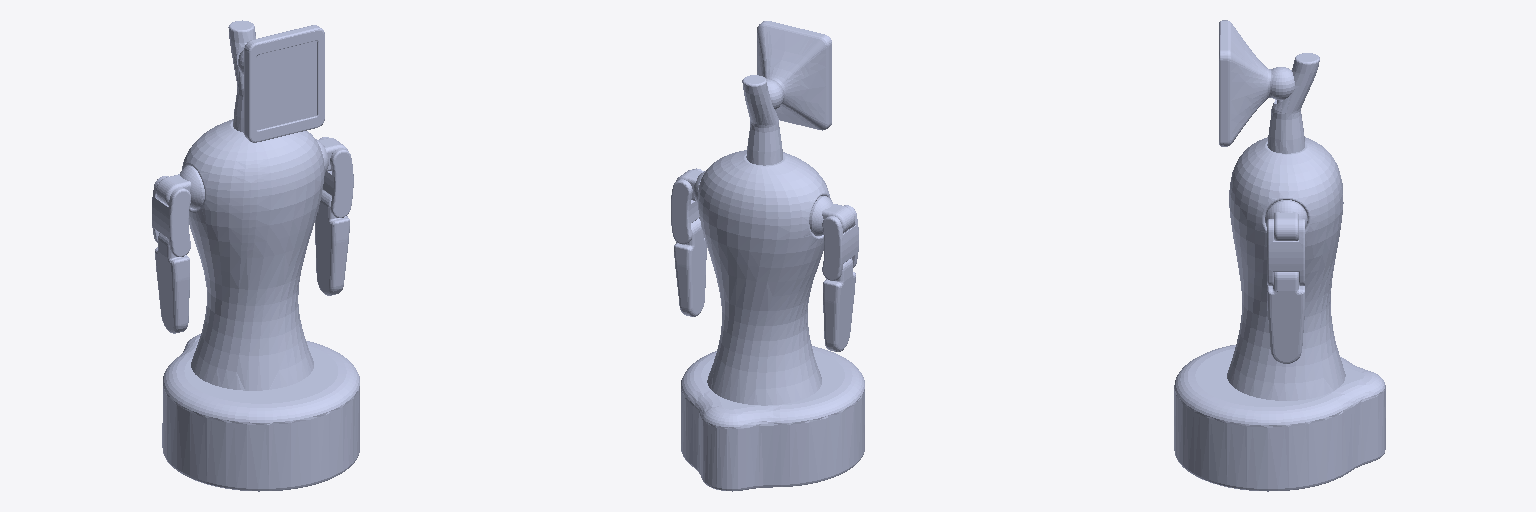
The robot description file, URDF, robot "URDF_Silbot":
<robot
  name="URDF_Silbot">

  <!-- Used for fixing robot to Gazebo 'base_link' -->
  <link name="world"/>
  <joint name="fixed" type="fixed">
    <parent link="world"/>
    <child link="base_link"/>
  </joint>
  <!-- -->

  <link
    name="base_link">
    <inertial>
      <origin
        xyz="7.58222085594279E-07 0.303246791234953 -0.0240203938745347"
        rpy="0 0 0" />
      <mass
        value="62.7691092370317" />
      <inertia
        ixx="4.50842846453512"
        ixy="-1.06126672936263E-05"
        ixz="-0.000498782139427751"
        iyy="1.12012861197416"
        iyz="0.214465641656845"
        izz="4.45203233376493" />
    </inertial>
    <visual>
      <origin
        xyz="0 0 0"
        rpy="0 0 0" />
      <geometry>
        <mesh
          filename="package://silbot3_description/meshes/base_link.stl" />
      </geometry>
      <material
        name="">
        <color
          rgba="0.792156862745098 0.819607843137255 0.933333333333333 1" />
      </material>
    </visual>
    <collision>
      <origin
        xyz="0 0 0"
        rpy="0 0 0" />
      <geometry>
        <mesh
          filename="package://silbot3_description/meshes/base_link.stl" />
      </geometry>
    </collision>
  </link>
  <link
    name="head_pan">
    <inertial>
      <origin
        xyz="-2.62345537484504E-18 0.0434442547963301 4.00317448634446E-09"
        rpy="0 0 0" />
      <mass
        value="0.0271784628013319" />
      <inertia
        ixx="1.80957544896381E-05"
        ixy="1.89945655284013E-21"
        ixz="-2.48736511134325E-11"
        iyy="1.43652425083494E-06"
        iyz="-1.55760485502358E-12"
        izz="1.80877283143939E-05" />
    </inertial>
    <visual>
      <origin
        xyz="0 0 0"
        rpy="0 0 0" />
      <geometry>
        <mesh
          filename="package://silbot3_description/meshes/head_pan.stl" />
      </geometry>
      <material
        name="">
        <color
          rgba="0.792156862745098 0.819607843137255 0.933333333333333 1" />
      </material>
    </visual>
    <collision>
      <origin
        xyz="0 0 0"
        rpy="0 0 0" />
      <geometry>
        <mesh
          filename="package://silbot3_description/meshes/head_pan.stl" />
      </geometry>
    </collision>
  </link>
  <joint
    name="head_pan"
    type="continuous">
    <origin
      xyz="0 0.0270000000000001 0.882000000000001"
      rpy="1.5707963267949 0 0" />
    <parent
      link="base_link" />
    <child
      link="head_pan" />
    <axis
      xyz="0 1 0" />
    <limit effort="30" velocity="1.57" lower="-1.13" upper="1.13" />
    <safety_controller k_velocity="1.57" k_position="15" soft_lower_limit="-1.13" soft_upper_limit="1.13" />
  </joint>
  <link
    name="head_tilt">
    <inertial>
      <origin
        xyz="3.35509416417473E-07 0.000180320997616445 0.098466219968126"
        rpy="0 0 0" />
      <mass
        value="3.1958001417964" />
      <inertia
        ixx="0.0161280224212103"
        ixy="-3.74548687820398E-07"
        ixz="4.10569883072921E-08"
        iyy="0.0120783645510828"
        iyz="6.02015212726225E-05"
        izz="0.0190874850995971" />
    </inertial>
    <visual>
      <origin
        xyz="0 0 0"
        rpy="0 0 0" />
      <geometry>
        <mesh
          filename="package://silbot3_description/meshes/head_tilt.stl" />
      </geometry>
      <material
        name="">
        <color
          rgba="0.792156862745098 0.819607843137255 0.933333333333333 1" />
      </material>
    </visual>
    <collision>
      <origin
        xyz="0 0 0"
        rpy="0 0 0" />
      <geometry>
        <mesh
          filename="package://silbot3_description/meshes/head_tilt.stl" />
      </geometry>
    </collision>
  </link>
  <joint
    name="head_tilt"
    type="continuous">
    <origin
      xyz="0 0.0800000000000001 0"
      rpy="0 0 0" />
    <parent
      link="head_pan" />
    <child
      link="head_tilt" />
    <axis
      xyz="-1 0 0" />
      <limit effort="30" velocity="1.57" lower="-0.17" upper="0.61" />
      <safety_controller k_velocity="1.57" k_position="15" soft_lower_limit="-0.17" soft_upper_limit="0.61" />
  </joint>
  <link
    name="left_shoulder_roll">
    <inertial>
      <origin
        xyz="0.0402238451768937 5.90727256000179E-09 -1.06105921389432E-07"
        rpy="0 0 0" />
      <mass
        value="0.523769709828829" />
      <inertia
        ixx="0.00050893924644715"
        ixy="1.22760205520854E-11"
        ixz="-3.81706313132774E-10"
        iyy="0.000694869826637859"
        iyz="8.25920040594555E-11"
        izz="0.000695111477814235" />
    </inertial>
    <visual>
      <origin
        xyz="0 0 0"
        rpy="0 0 0" />
      <geometry>
        <mesh
          filename="package://silbot3_description/meshes/left_shoulder_roll.stl" />
      </geometry>
      <material
        name="">
        <color
          rgba="0.792156862745098 0.819607843137255 0.933333333333333 1" />
      </material>
    </visual>
    <collision>
      <origin
        xyz="0 0 0"
        rpy="0 0 0" />
      <geometry>
        <mesh
          filename="package://silbot3_description/meshes/left_shoulder_roll.stl" />
      </geometry>
    </collision>
  </link>
  <joint
    name="left_shoulder_roll"
    type="continuous">
    <origin
      xyz="0.13 0.0399999808735008 0.68"
      rpy="1.5707963267949 0 0" />
    <parent
      link="base_link" />
    <child
      link="left_shoulder_roll" />
    <axis xyz="-1 0 0" />
      <limit effort="30" velocity="1.57" lower="-1.57" upper="2.97" />
      <safety_controller k_velocity="1.57" k_position="15" soft_lower_limit="-1.57" soft_upper_limit="2.97" />
  </joint>
  <link
    name="left_shoulder_pitch">
    <inertial>
      <origin
        xyz="0.00447219277506278 -0.0608811930915962 8.57428975042929E-10"
        rpy="0 0 0" />
      <mass
        value="0.464234298040107" />
      <inertia
        ixx="0.00110737707119681"
        ixy="-3.01462515992655E-06"
        ixz="6.7334317769391E-13"
        iyy="0.000491853620615109"
        iyz="1.01556886229373E-11"
        izz="0.000794791705256485" />
    </inertial>
    <visual>
      <origin
        xyz="0 0 0"
        rpy="0 0 0" />
      <geometry>
        <mesh
          filename="package://silbot3_description/meshes/left_shoulder_pitch.stl" />
      </geometry>
      <material
        name="">
        <color
          rgba="0.792156862745098 0.819607843137255 0.933333333333333 1" />
      </material>
    </visual>
    <collision>
      <origin
        xyz="0 0 0"
        rpy="0 0 0" />
      <geometry>
        <mesh
          filename="package://silbot3_description/meshes/left_shoulder_pitch.stl" />
      </geometry>
    </collision>
  </link>
  <joint
    name="left_shoulder_pitch"
    type="continuous">
    <origin
      xyz="0.08 0 0"
      rpy="0 0 0" />
    <parent
      link="left_shoulder_roll" />
    <child
      link="left_shoulder_pitch" />
    <axis
      xyz="0 0 1" />
    <limit effort="30" velocity="1.57" lower="-0.35" upper="2.09" />
    <safety_controller k_velocity="1.57" k_position="15" soft_lower_limit="-0.35" soft_upper_limit="2.09" />
  </joint>
  <link
    name="left_elbow_pitch">
    <inertial>
      <origin
        xyz="-0.00273775922544003 -0.0992751990429413 -3.16663074234613E-09"
        rpy="0 0 0" />
      <mass
        value="0.793074966981515" />
      <inertia
        ixx="0.00370912425943639"
        ixy="-0.000111595277425925"
        ixz="-1.37331052008159E-09"
        iyy="0.000538057358277077"
        iyz="6.96382689691919E-11"
        izz="0.00343365780647525" />
    </inertial>
    <visual>
      <origin
        xyz="0 0 0"
        rpy="0 0 0" />
      <geometry>
        <mesh
          filename="package://silbot3_description/meshes/left_elbow_pitch.stl" />
      </geometry>
      <material
        name="">
        <color
          rgba="0.792156862745098 0.819607843137255 0.933333333333333 1" />
      </material>
    </visual>
    <collision>
      <origin
        xyz="0 0 0"
        rpy="0 0 0" />
      <geometry>
        <mesh
          filename="package://silbot3_description/meshes/left_elbow_pitch.stl" />
      </geometry>
    </collision>
  </link>
  <joint
    name="left_elbow_pitch"
    type="continuous">
    <origin
      xyz="0 -0.12 0"
      rpy="0 0 0" />
    <parent
      link="left_shoulder_pitch" />
    <child
      link="left_elbow_pitch" />
    <axis
      xyz="0 0 1" />
      <limit effort="30" velocity="1.57" lower="-1.57" upper="0.35" />
      <safety_controller k_velocity="1.57" k_position="15" soft_lower_limit="-1.57" soft_upper_limit="0.35" />
  </joint>
  <link
    name="right_shoulder_roll">
    <inertial>
      <origin
        xyz="0.0402238451768937 5.90727256000179E-09 -1.06105921444943E-07"
        rpy="0 0 0" />
      <mass
        value="0.52376970982883" />
      <inertia
        ixx="0.00050893924644715"
        ixy="1.22760207242185E-11"
        ixz="-3.81706313112343E-10"
        iyy="0.00069486982663786"
        iyz="8.25920043162945E-11"
        izz="0.000695111477814236" />
    </inertial>
    <visual>
      <origin
        xyz="0 0 0"
        rpy="0 0 0" />
      <geometry>
        <mesh
          filename="package://silbot3_description/meshes/right_shoulder_roll.stl" />
      </geometry>
      <material
        name="">
        <color
          rgba="0.792156862745098 0.819607843137255 0.933333333333333 1" />
      </material>
    </visual>
    <collision>
      <origin
        xyz="0 0 0"
        rpy="0 0 0" />
      <geometry>
        <mesh
          filename="package://silbot3_description/meshes/right_shoulder_roll.stl" />
      </geometry>
    </collision>
  </link>
  <joint
    name="right_shoulder_roll"
    type="continuous">
    <origin
      xyz="-0.13 0.0399999808735008 0.68"
      rpy="1.5707963267949 0 3.14159265358979" />
    <parent
      link="base_link" />
    <child
      link="right_shoulder_roll" />
    <axis
      xyz="1 0 0" />
    <limit effort="30" velocity="1.57" lower="-1.57" upper="2.97" />
    <safety_controller k_velocity="1.57" k_position="15" soft_lower_limit="-1.57" soft_upper_limit="2.97" />
  </joint>
  <link
    name="right_shoulder_pitch">
    <inertial>
      <origin
        xyz="0.00447219277506244 -0.060881193091596 8.57428975042929E-10"
        rpy="0 0 0" />
      <mass
        value="0.464234298040107" />
      <inertia
        ixx="0.0011073770711968"
        ixy="-3.01462515990822E-06"
        ixz="6.7334161954273E-13"
        iyy="0.000491853620615157"
        iyz="1.01556880691214E-11"
        izz="0.000794791705256518" />
    </inertial>
    <visual>
      <origin
        xyz="0 0 0"
        rpy="0 0 0" />
      <geometry>
        <mesh
          filename="package://silbot3_description/meshes/right_shoulder_pitch.stl" />
      </geometry>
      <material
        name="">
        <color
          rgba="0.792156862745098 0.819607843137255 0.933333333333333 1" />
      </material>
    </visual>
    <collision>
      <origin
        xyz="0 0 0"
        rpy="0 0 0" />
      <geometry>
        <mesh
          filename="package://silbot3_description/meshes/right_shoulder_pitch.stl" />
      </geometry>
    </collision>
  </link>
  <joint
    name="right_shoulder_pitch"
    type="continuous">
    <origin
      xyz="0.0799999999999999 0 0"
      rpy="0 0 0" />
    <parent
      link="right_shoulder_roll" />
    <child
      link="right_shoulder_pitch" />
    <axis
      xyz="0 0 1" />
      <limit effort="30" velocity="1.57" lower="-0.35" upper="2.09" />
      <safety_controller k_velocity="1.57" k_position="15" soft_lower_limit="-0.35" soft_upper_limit="2.09" />
  </joint>
  <link
    name="right_elbow_pitch">
    <inertial>
      <origin
        xyz="-0.00273775922544006 -0.0992751990429413 -3.16663073540724E-09"
        rpy="0 0 0" />
      <mass
        value="0.793074966981515" />
      <inertia
        ixx="0.0037091242594364"
        ixy="-0.000111595277425924"
        ixz="-1.37331052014872E-09"
        iyy="0.000538057358277077"
        iyz="6.96382689647818E-11"
        izz="0.00343365780647526" />
    </inertial>
    <visual>
      <origin
        xyz="0 0 0"
        rpy="0 0 0" />
      <geometry>
        <mesh
          filename="package://silbot3_description/meshes/right_elbow_pitch.stl" />
      </geometry>
      <material
        name="">
        <color
          rgba="0.792156862745098 0.819607843137255 0.933333333333333 1" />
      </material>
    </visual>
    <collision>
      <origin
        xyz="0 0 0"
        rpy="0 0 0" />
      <geometry>
        <mesh
          filename="package://silbot3_description/meshes/right_elbow_pitch.stl" />
      </geometry>
    </collision>
  </link>
  <joint
    name="right_elbow_pitch"
    type="continuous">
    <origin
      xyz="0 -0.12 0"
      rpy="0 0 0" />
    <parent
      link="right_shoulder_pitch" />
    <child
      link="right_elbow_pitch" />
    <axis
      xyz="0 0 11" />
      <limit effort="30" velocity="1.57" lower="-1.57" upper="0.35" />
      <safety_controller k_velocity="1.57" k_position="15" soft_lower_limit="-1.57" soft_upper_limit="0.35" />
  </joint>
</robot>

--- Facts derived from the render (not from the file) ---
3 views of the same robot in one strip: view 1: azimuth 30°, elevation 25°; view 2: azimuth 150°, elevation 25°; view 3: azimuth 270°, elevation 25° (orthographic).
Model URDF_Silbot with 10 links and 9 joints (8 continuous, 1 fixed), rooted at world, posed every joint at zero.
Links seen in each view (by area): view 1: base_link, head_tilt, left_elbow_pitch, right_elbow_pitch, right_shoulder_pitch, left_shoulder_pitch, right_shoulder_roll; view 2: base_link, head_tilt, left_elbow_pitch, right_elbow_pitch, right_shoulder_pitch, left_shoulder_pitch, right_shoulder_roll; view 3: base_link, head_tilt, left_elbow_pitch, left_shoulder_pitch, left_shoulder_roll.
Boxes of the visible links, x1,y1,x2,y2 form: base_link: (162,20,359,491); head_tilt: (238,25,324,142); left_elbow_pitch: (315,190,349,295); right_elbow_pitch: (155,233,189,333); right_shoulder_pitch: (152,176,190,256); left_shoulder_pitch: (319,137,353,217); right_shoulder_roll: (156,166,204,208); base_link: (681,75,864,491); head_tilt: (757,21,831,130); left_elbow_pitch: (674,218,706,316); right_elbow_pitch: (823,258,855,351); right_shoulder_pitch: (822,205,858,280); left_shoulder_pitch: (671,168,703,244); right_shoulder_roll: (809,196,854,235); base_link: (1174,53,1385,491); head_tilt: (1219,20,1294,146); left_elbow_pitch: (1267,272,1304,363); left_shoulder_pitch: (1267,219,1304,285); left_shoulder_roll: (1265,200,1307,240).
Size in the robot's own frame: 0.4821 by 0.5 by 1.1 metres.
Meshes: 9 distinct files referenced, 9 mesh visuals loaded (9 binary STL).